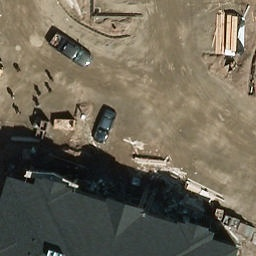car: (93, 109, 119, 148)
pickup: (51, 31, 94, 67)
